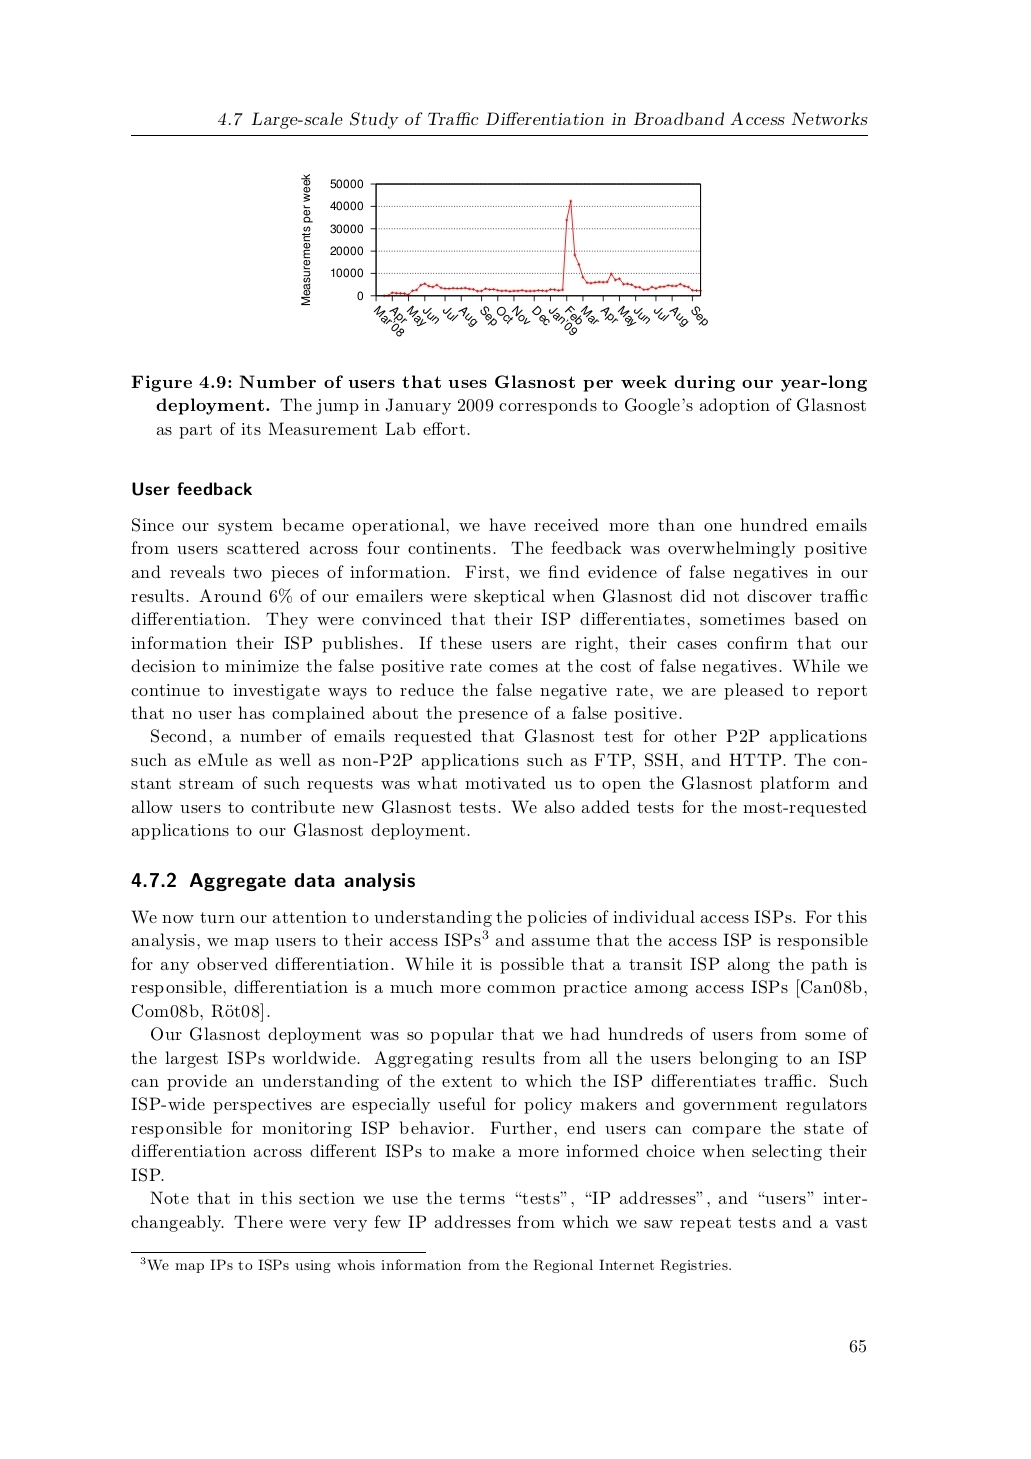figure: (301, 173, 707, 337)
